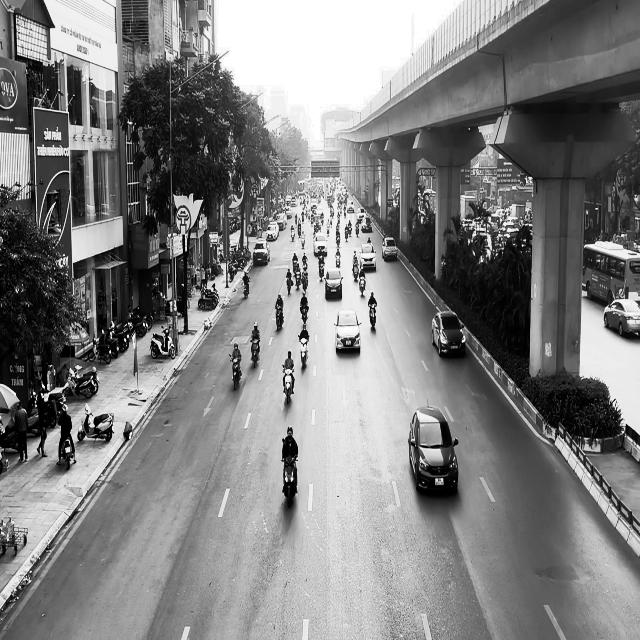bus: (582, 240, 640, 306)
car: (408, 402, 459, 493), (431, 310, 466, 357), (603, 298, 640, 337), (334, 308, 362, 353), (325, 268, 343, 300), (359, 242, 376, 270), (382, 236, 397, 260)
motorbike: (78, 402, 114, 442), (150, 324, 176, 358), (281, 455, 298, 507), (282, 363, 294, 404), (229, 353, 241, 390), (61, 437, 74, 469), (298, 334, 309, 369), (250, 338, 260, 367), (275, 304, 284, 330), (368, 302, 376, 329), (358, 273, 366, 295), (243, 279, 250, 298)
